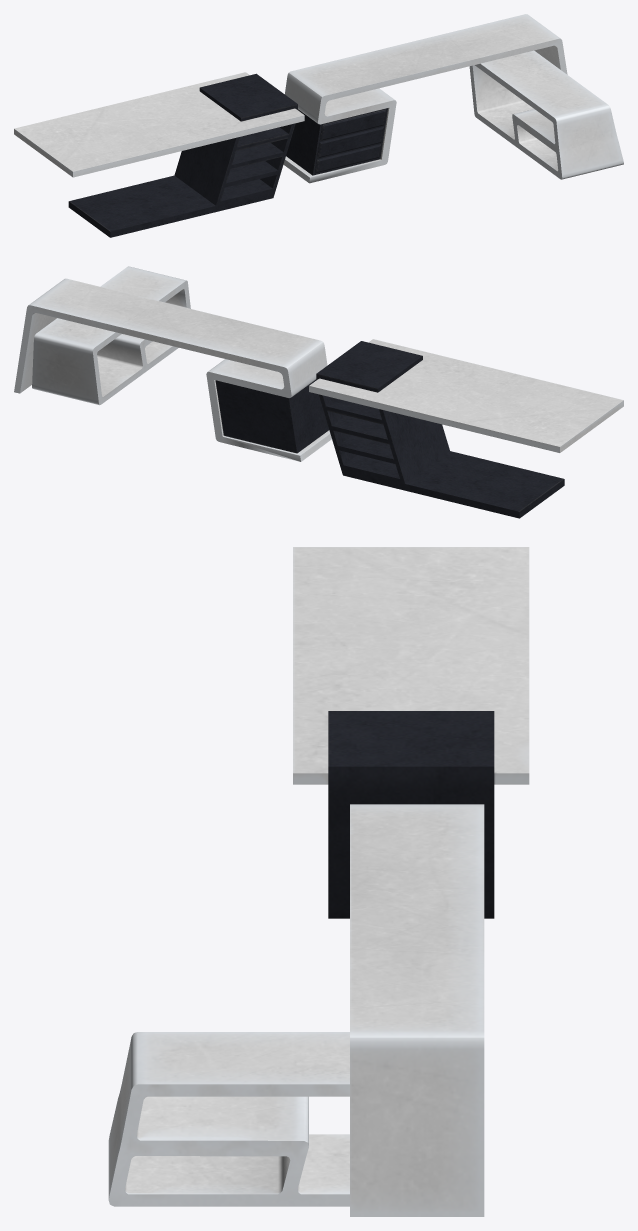
The model's file is Tables.fbx.
The picture shows the model from 3 angles, top to bottom: view 1: azimuth 30°, elevation 25°; view 2: azimuth 150°, elevation 25°; view 3: azimuth 270°, elevation 25°; orthographic projection. The views are drawn at different scales.
Parts seen in each view (by area): view 1: Table1, Table2; view 2: Table1, Table2; view 3: Table1, Table2.
Part boxes in pixels (x1,y1,x2,y2): Table1: [283, 14, 623, 183]; Table2: [14, 72, 304, 237]; Table1: [14, 266, 331, 461]; Table2: [309, 339, 623, 518]; Table1: [108, 804, 484, 1216]; Table2: [293, 547, 529, 918].
Bounding box in the file's own units: 1972 × 322 × 697.
